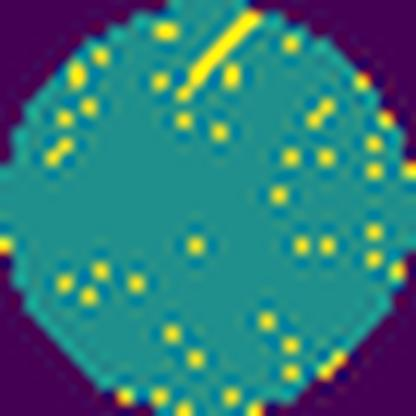Scratch: (171, 11, 263, 108)
